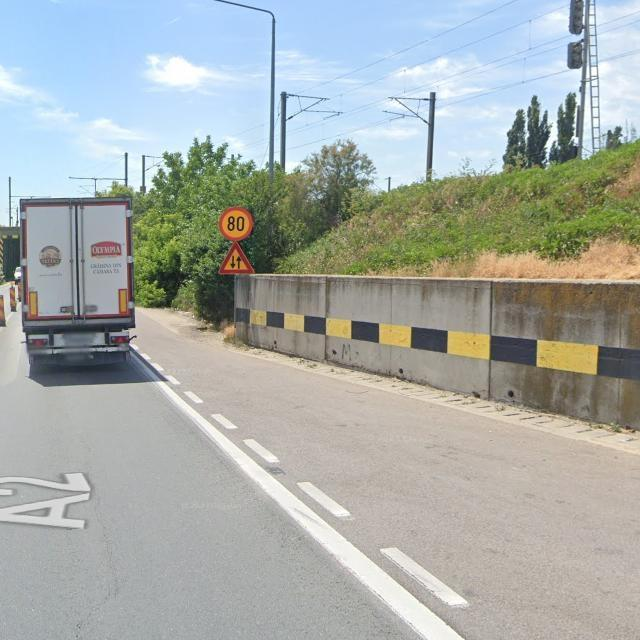forb_speed_over_80: (219, 208, 254, 241)
